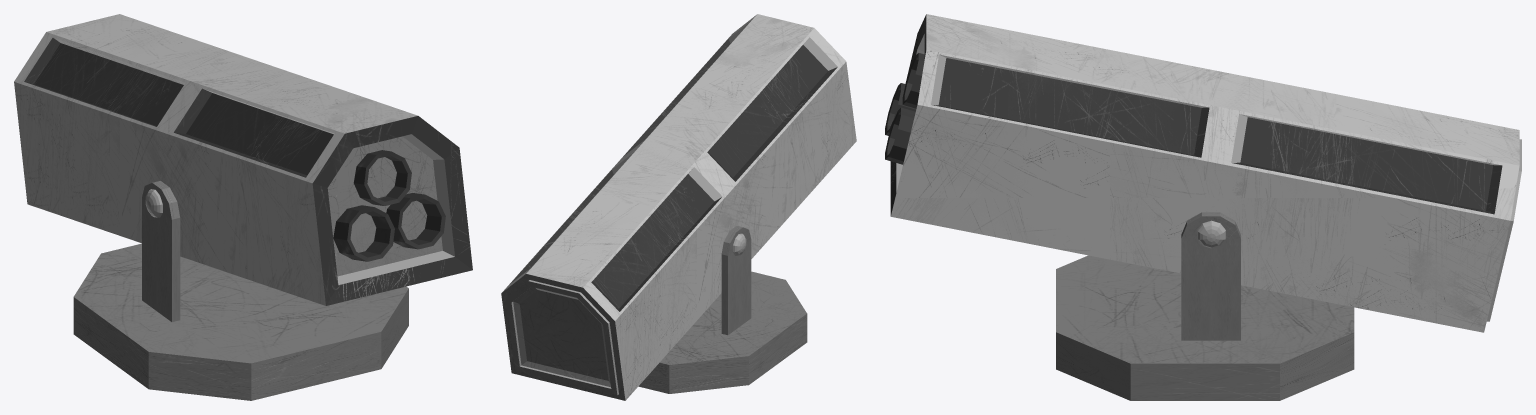
Rendered from MissileRT2.fbx.
The picture shows the model from 3 angles, left to right: view 1: azimuth 30°, elevation 25°; view 2: azimuth 150°, elevation 25°; view 3: azimuth 270°, elevation 25°; orthographic projection. The views are drawn at different scales.
Parts seen in each view (by area): view 1: polySurface10; view 2: polySurface10; view 3: polySurface10.
Boxes of the visible parts, x1,y1,x2,y2 form: polySurface10: (14,14,472,400); polySurface10: (501,14,856,400); polySurface10: (885,14,1521,400).
Size of the model in its own units: 14.85 by 16.81 by 31.69.
